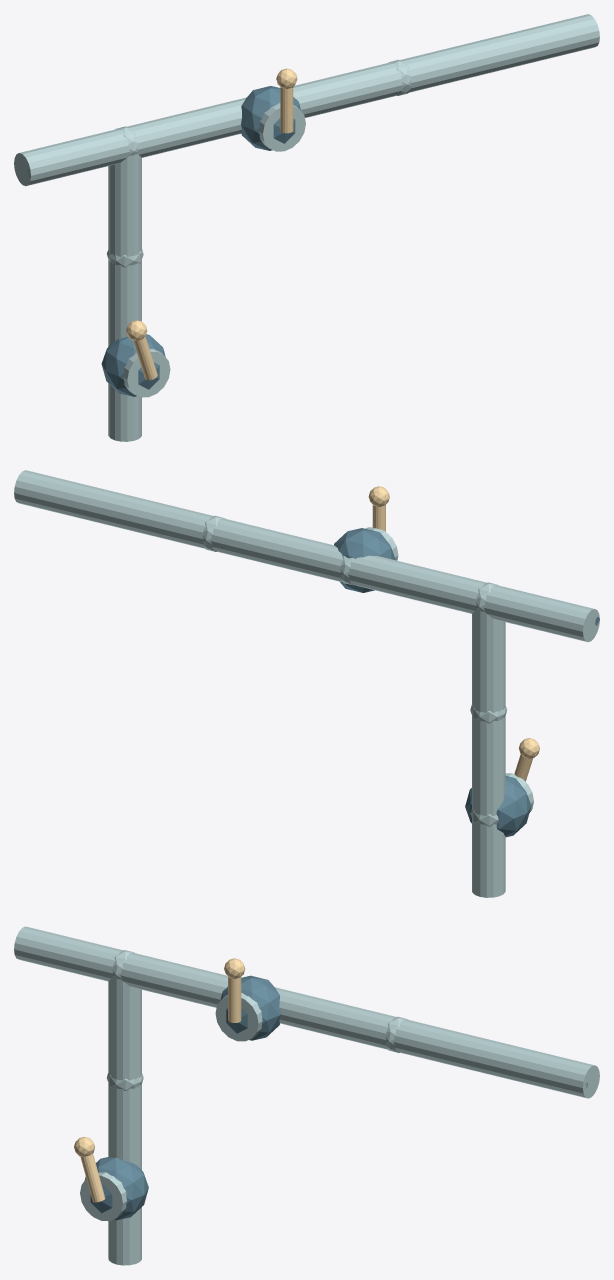
Rendered from air-00-0.glb.
The picture shows the model from 3 angles, top to bottom: view 1: azimuth 30°, elevation 25°; view 2: azimuth 150°, elevation 25°; view 3: azimuth 330°, elevation 25°; orthographic projection.
Visible parts, largest first — view 1: pipe, dark, handle; view 2: pipe, dark, handle; view 3: pipe, dark, handle.
Part boxes in pixels (<box>): pipe: <box>14,14,599,441</box>; dark: <box>28,86,300,396</box>; handle: <box>126,68,297,380</box>; pipe: <box>14,470,599,897</box>; dark: <box>334,528,599,837</box>; handle: <box>368,486,539,781</box>; pipe: <box>14,926,599,1265</box>; dark: <box>84,975,587,1220</box>; handle: <box>74,958,245,1202</box>.
Bounding box in the file's own units: 2.77 × 1.64 × 0.343.
